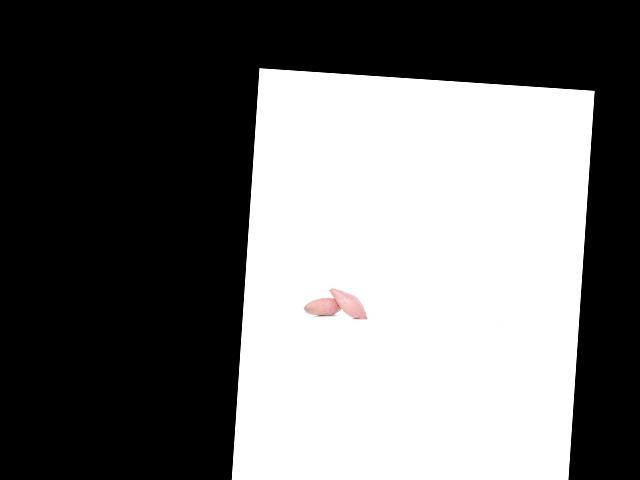sweet_potato: (302, 293, 345, 317)
